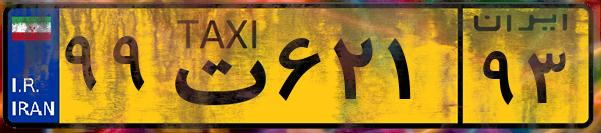1: (385, 28, 445, 110)
2: (330, 28, 385, 110)
3: (525, 38, 570, 115)
6: (270, 28, 330, 110)
9: (57, 26, 110, 100), (475, 38, 525, 113), (110, 28, 158, 98)
ت: (158, 12, 270, 120)
